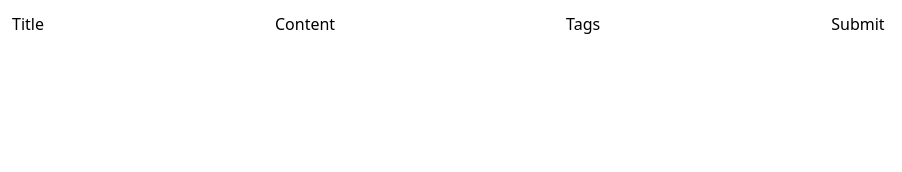
Test: renders an error from the server
The image size is (902, 172).
Step 1. Type "Test Title" into the field labelled "Title" → (160, 24), box left=44, top=12, right=275, bottom=36
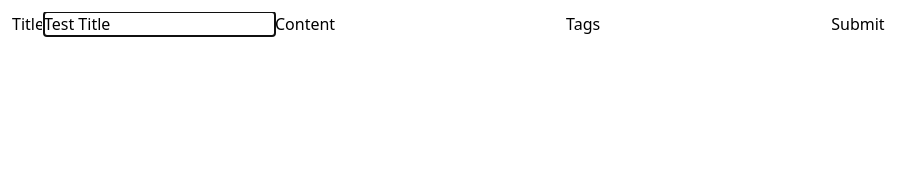
Step 2. Type "Test Content" into the field labelled "Content" → (451, 24), box left=335, top=12, right=566, bottom=36
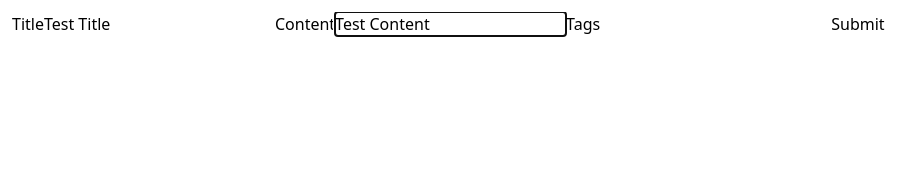
Step 3. Type "tag1, tag2" into the field labelled "Tags" → (716, 24), box left=600, top=12, right=831, bottom=36
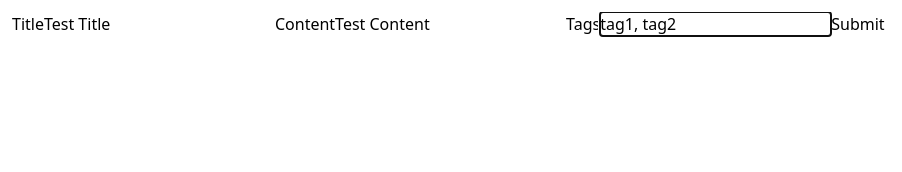
Step 4. Click the button "Submit" → (858, 24), box left=831, top=12, right=885, bottom=36
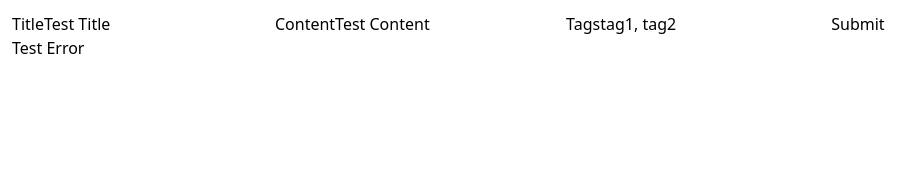
Expected: the message reads "Test Error", left=12, top=37, right=84, bottom=59
